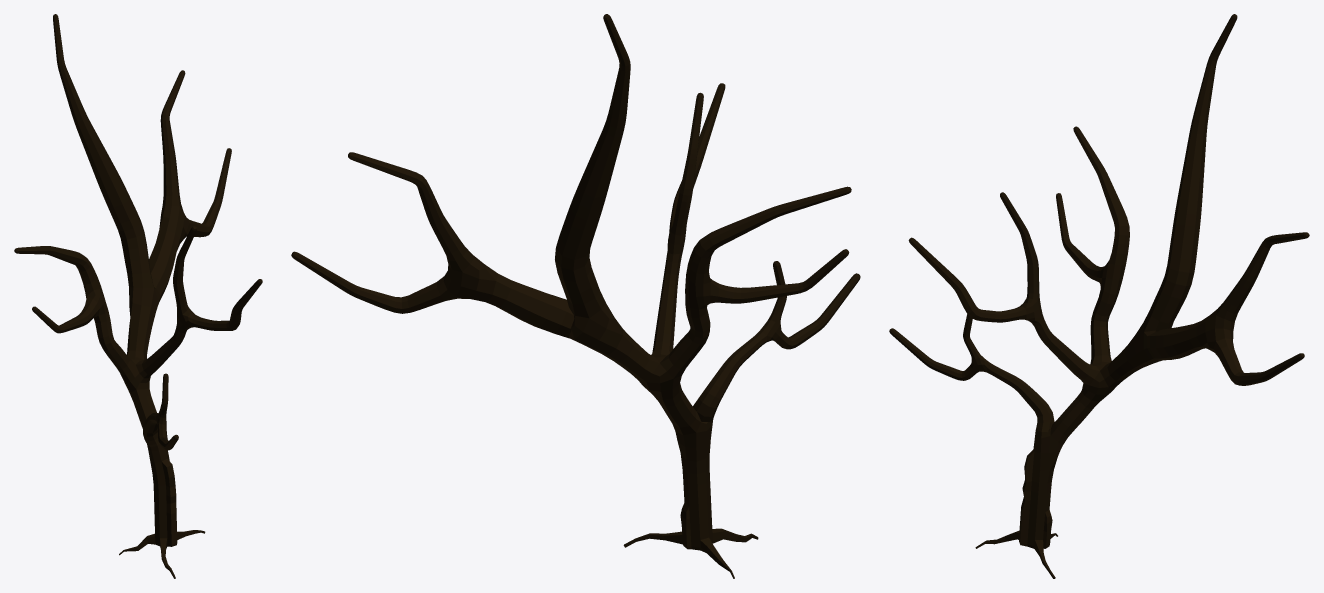
The model's file is branches.fbx.
The picture shows the model from 3 angles, left to right: view 1: azimuth 30°, elevation 25°; view 2: azimuth 150°, elevation 25°; view 3: azimuth 270°, elevation 25°; orthographic projection. The views are drawn at different scales.
Parts seen in each view (by area): view 1: Cube; view 2: Cube; view 3: Cube.
Part boxes in pixels (left/top/right/bottom): Cube: left=14, top=14, right=262, bottom=578; Cube: left=291, top=14, right=860, bottom=578; Cube: left=889, top=14, right=1309, bottom=578.
Bounding box in the file's own units: 320 × 460 × 329.
